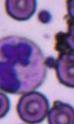N: (0, 35, 45, 93)
